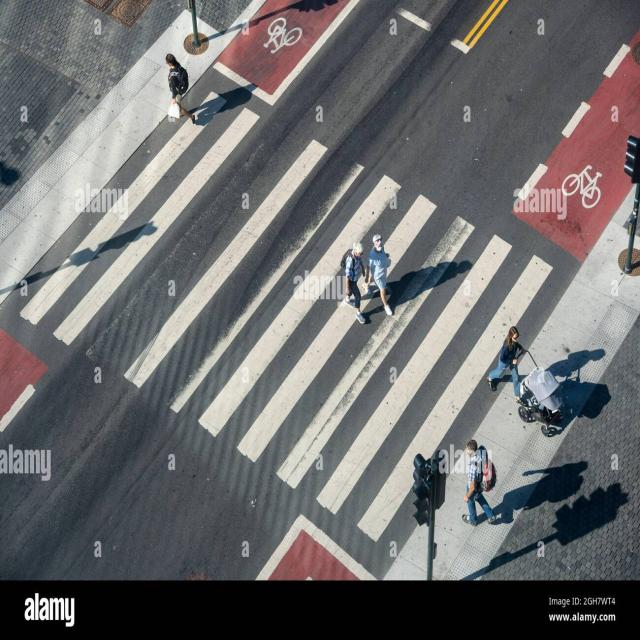Pedestrians: (486, 325, 523, 405), (463, 437, 495, 528), (366, 234, 397, 316), (165, 51, 198, 126), (341, 241, 369, 325)
